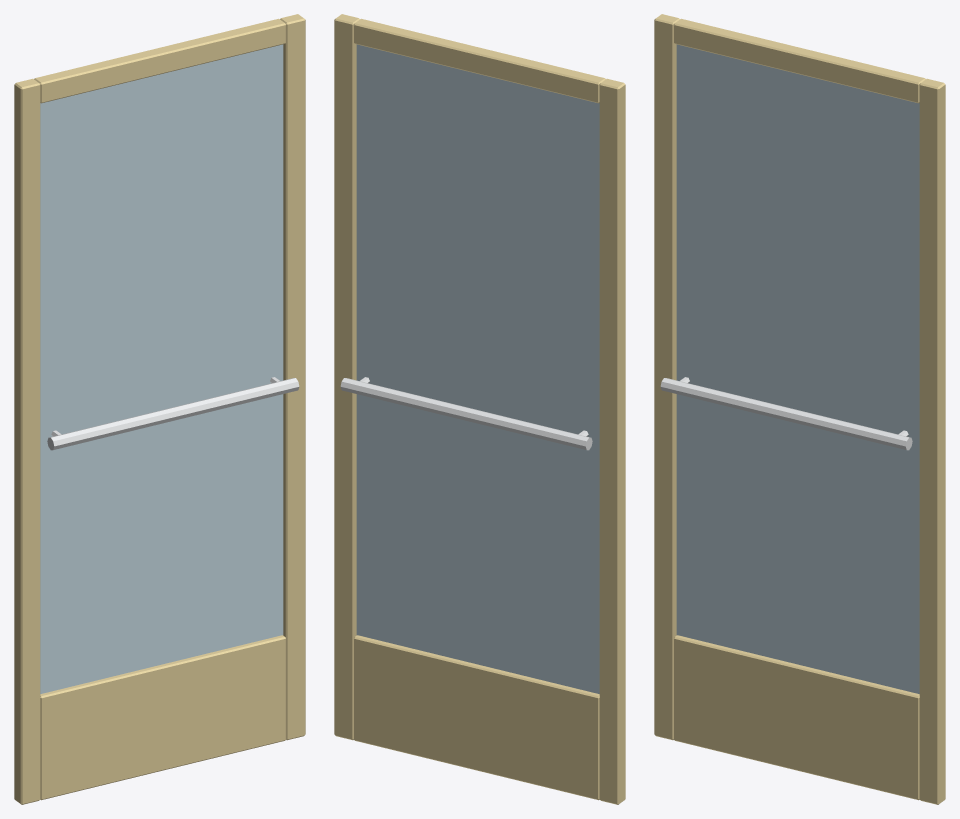
The model's file is door_leaf_office.glb.
3 renders of one model, left to right at view 1: azimuth 30°, elevation 25°; view 2: azimuth 150°, elevation 25°; view 3: azimuth 330°, elevation 25°, orthographic.
Parts seen in each view (by area): view 1: door_leaf_office_glass, door_leaf_office_gold, door_leaf_office_chrome; view 2: door_leaf_office_glass, door_leaf_office_gold, door_leaf_office_chrome; view 3: door_leaf_office_glass, door_leaf_office_gold, door_leaf_office_chrome.
Boxes of the visible parts, x1,y1,x2,y2 form: door_leaf_office_glass: (40, 44, 283, 693); door_leaf_office_gold: (14, 14, 305, 804); door_leaf_office_chrome: (47, 377, 299, 450); door_leaf_office_glass: (356, 44, 599, 693); door_leaf_office_gold: (334, 14, 625, 804); door_leaf_office_chrome: (340, 377, 592, 450); door_leaf_office_glass: (676, 44, 919, 693); door_leaf_office_gold: (654, 14, 945, 804); door_leaf_office_chrome: (660, 377, 912, 450).
Bounding box in the file's own units: 0.86 × 2.07 × 0.176.
